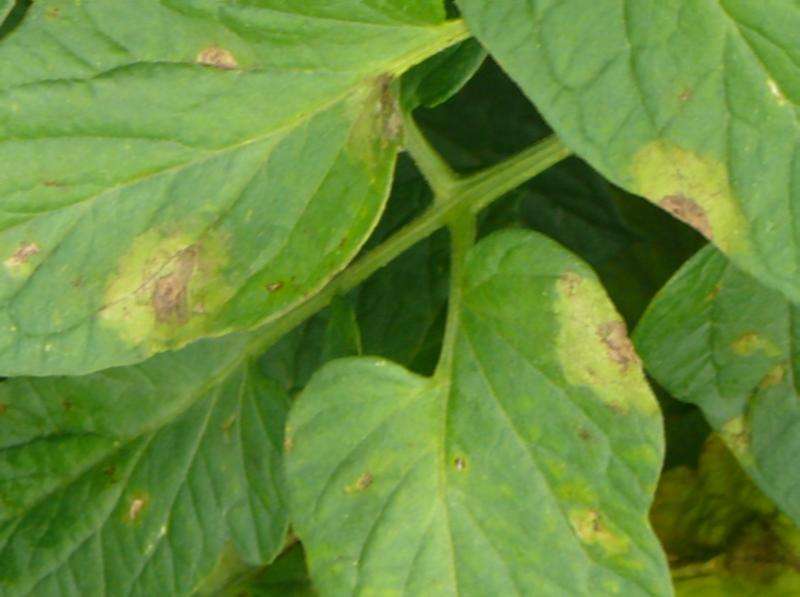Tomato Early blight leaf: (7, 0, 444, 390), (281, 241, 678, 590)
